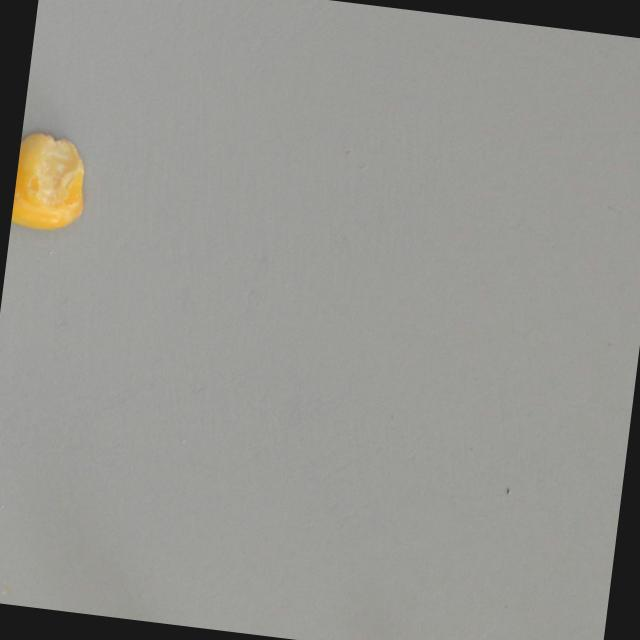pelicula: (9, 121, 95, 238)
